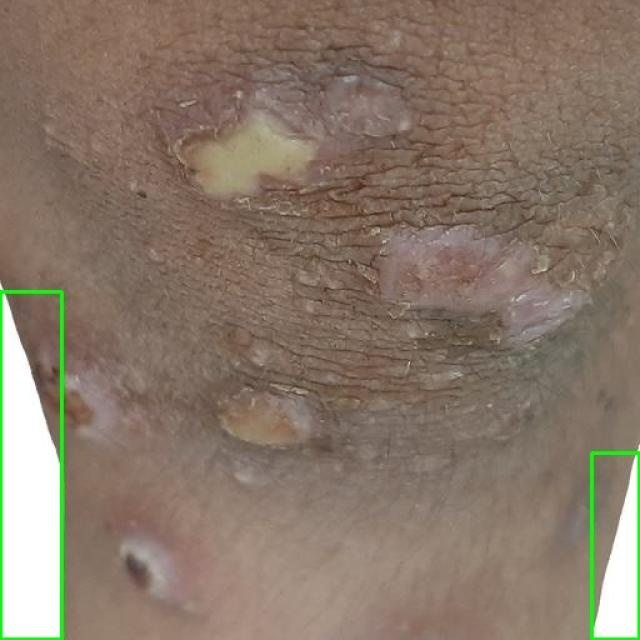Scabies: (0, 291, 61, 639), (591, 452, 639, 639)
